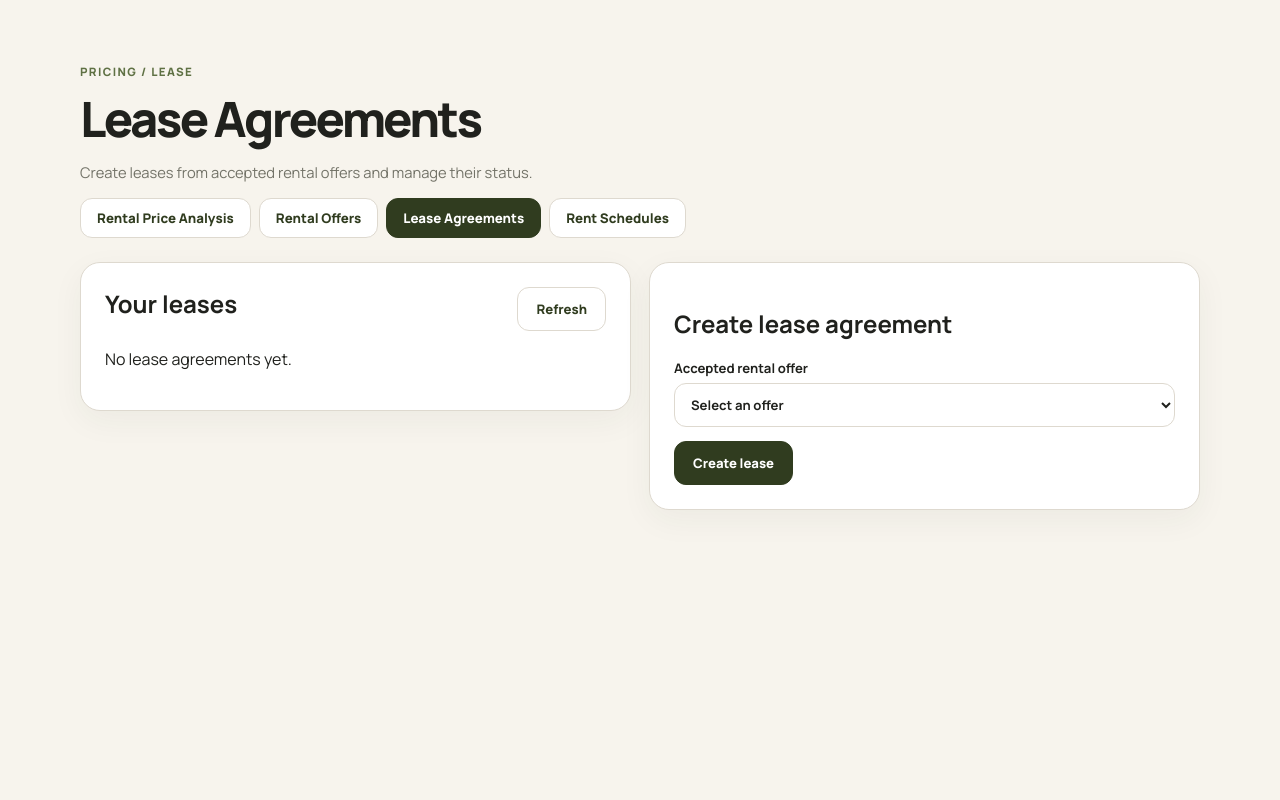
Test case: landlord lease agreements › creates a lease with only the selected accepted rental offer ID
Select "Lake House · Tenant 55555555-5555-5555-5555-555555555555 · Rent 85,000 · 2026-11" in the dropdown labelled "Accepted rental offer": [924, 406] box [674,384,1175,428]
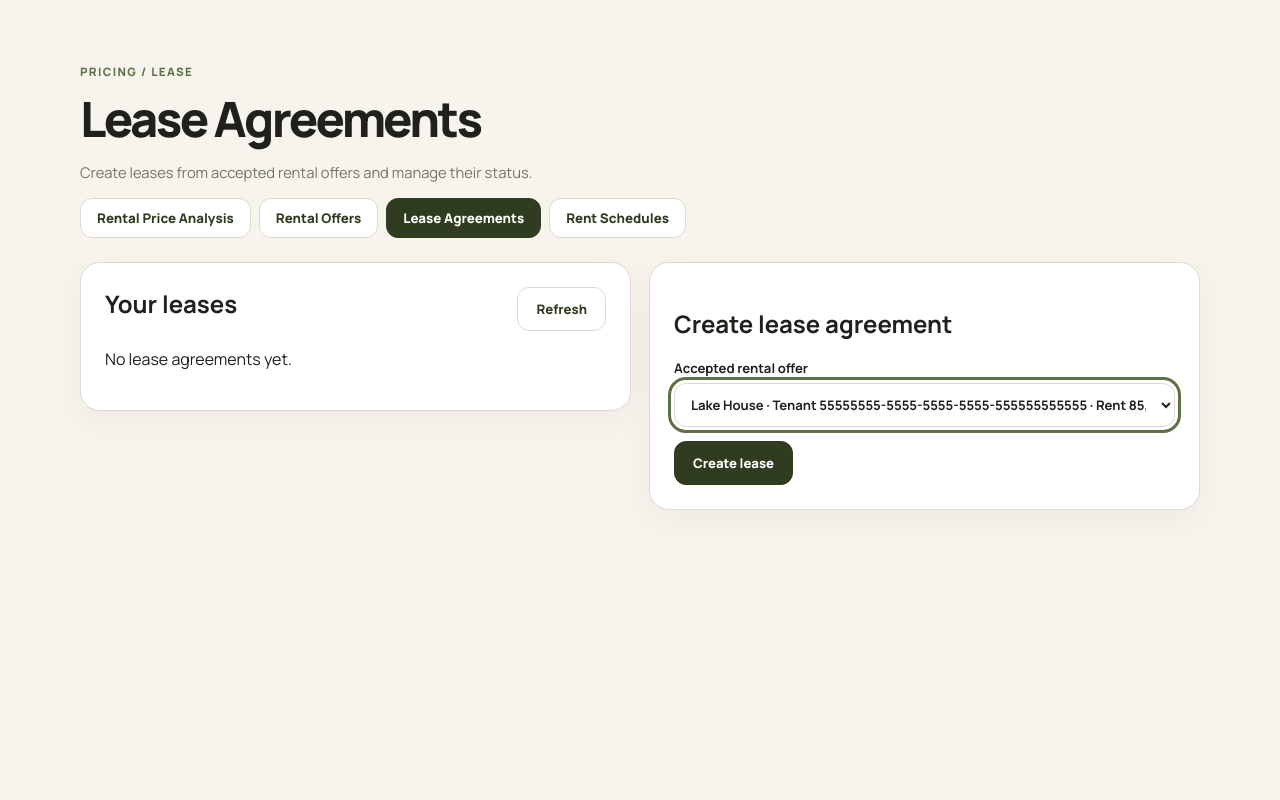
Click the button "Create lease": [734, 464] box [674,442,793,486]
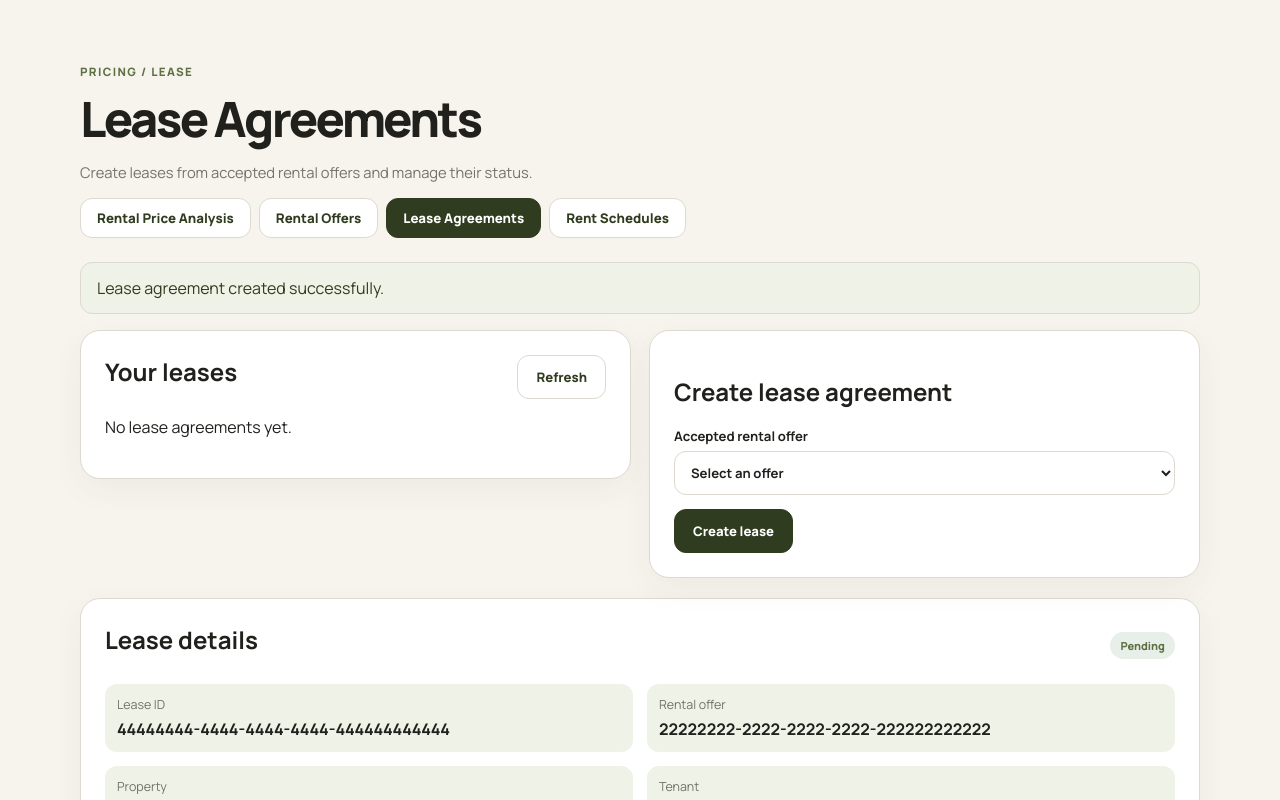
expect the text "Lease agreement created successfully." is shown: met, box [80,262,1200,314]
